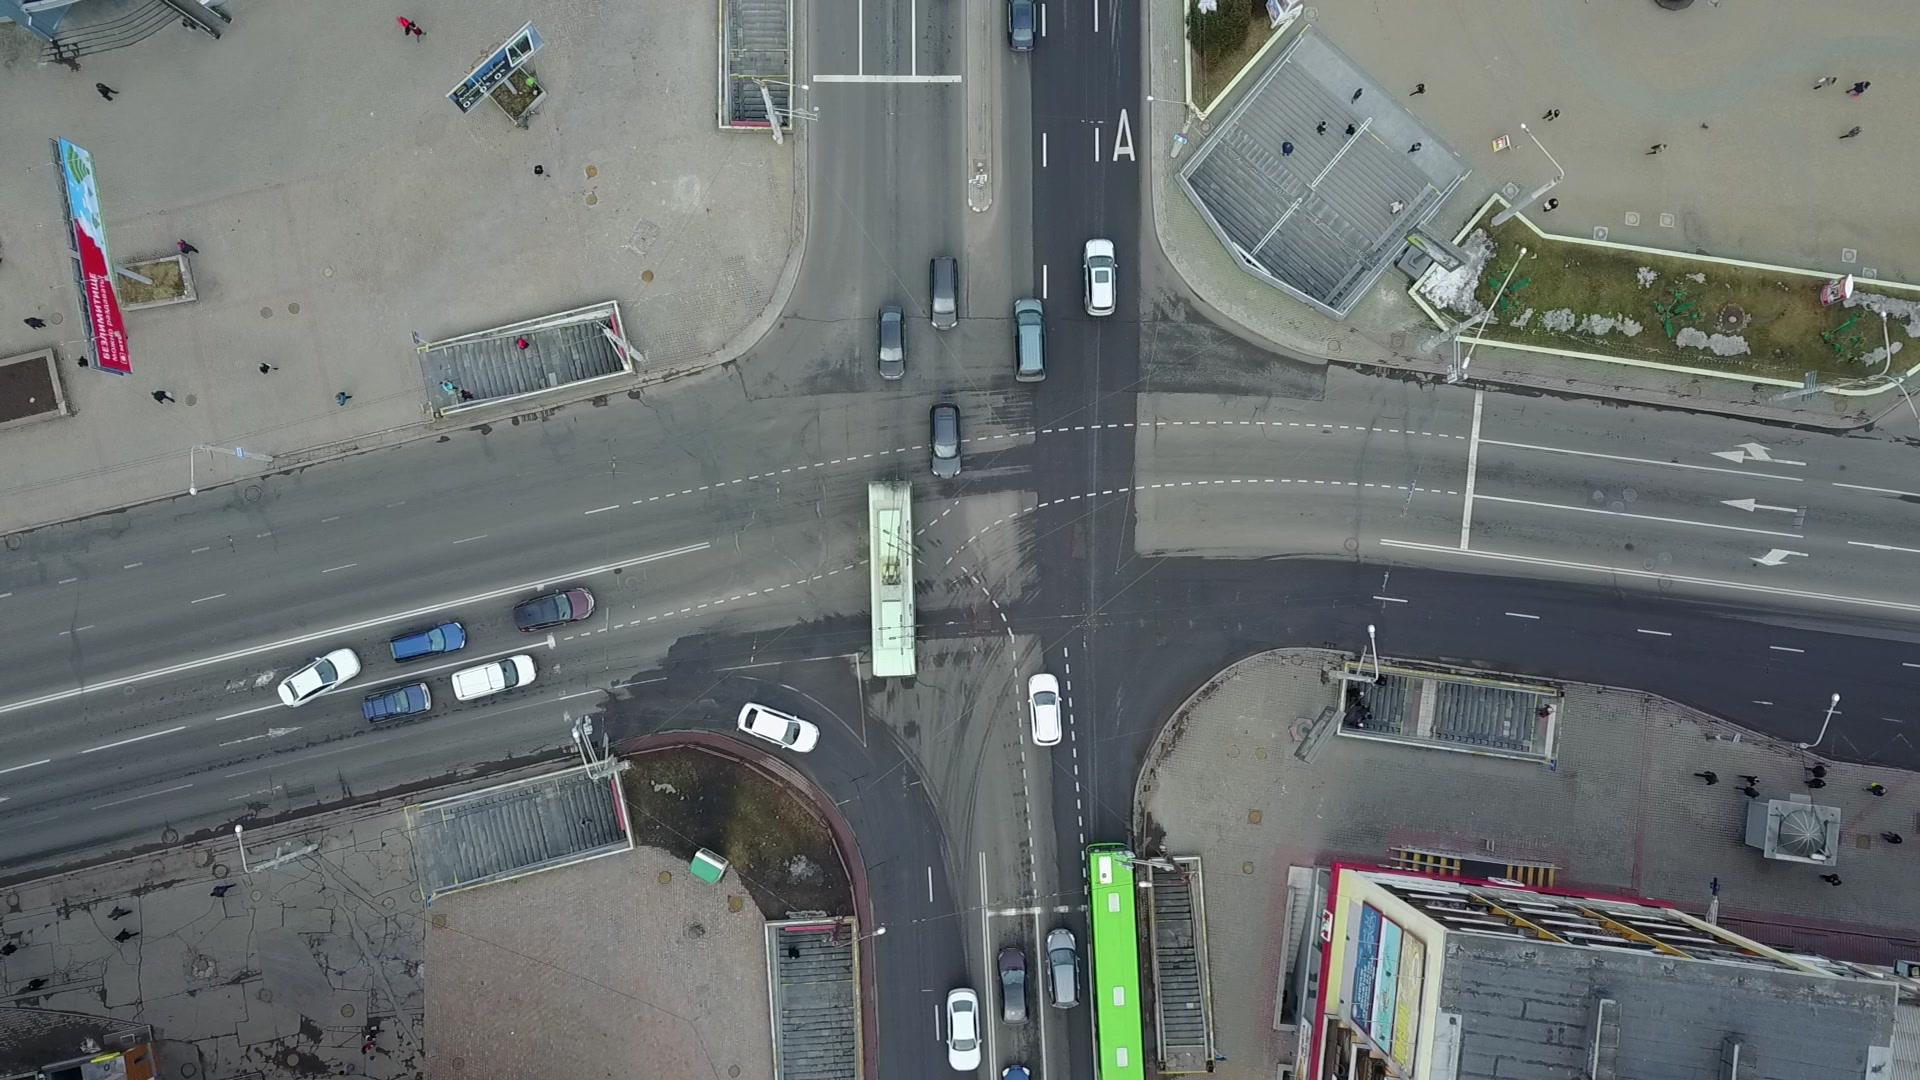car: (276, 646, 360, 709), (735, 699, 822, 756), (450, 651, 538, 702), (512, 585, 596, 632), (388, 621, 465, 665), (360, 680, 433, 727), (945, 986, 984, 1072), (1011, 298, 1048, 382), (1044, 927, 1081, 1009), (1083, 236, 1120, 316), (926, 401, 963, 477), (997, 945, 1031, 1027), (1026, 673, 1063, 745), (876, 305, 906, 382), (927, 255, 959, 328)
